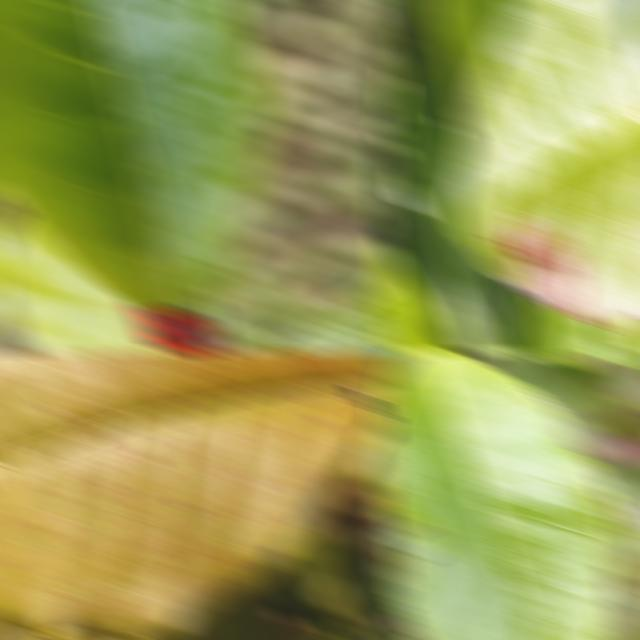Leaf: (0, 350, 391, 640), (0, 0, 267, 312), (377, 350, 624, 640), (448, 0, 640, 329), (389, 33, 514, 354), (0, 208, 159, 354), (491, 352, 640, 464), (258, 506, 355, 629), (250, 279, 391, 354), (310, 519, 391, 640), (168, 584, 269, 640), (504, 294, 565, 354), (399, 0, 434, 51)
